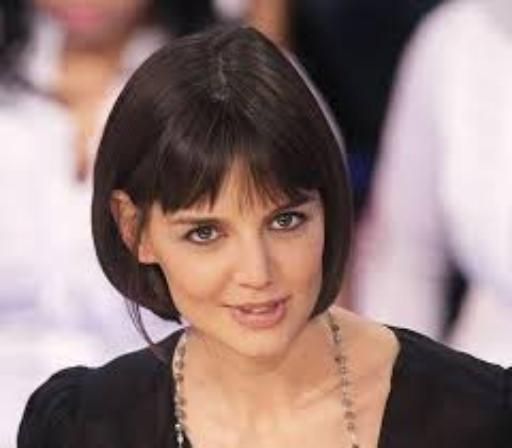left_eye: (267, 209, 314, 232)
left_lip_corner: (282, 292, 298, 307)
right_eye: (180, 223, 230, 247)
right_lip_corner: (220, 300, 236, 316)
